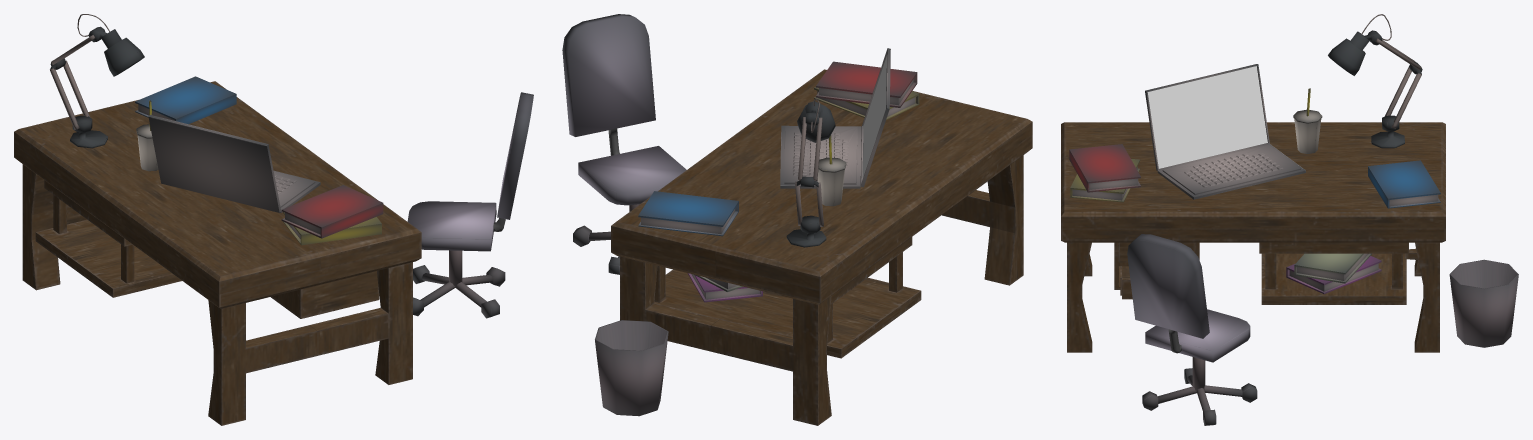
The model's file is desk lmao.fbx.
3 views of the same model, side by side, from view 1: azimuth 30°, elevation 25°; view 2: azimuth 150°, elevation 25°; view 3: azimuth 270°, elevation 25° (orthographic). The views are drawn at different scales.
Visible parts, largest first — view 1: Cube.009; view 2: Cube.009; view 3: Cube.009.
Part boxes in pixels (x1,y1,x2,y2): Cube.009: (14,14,533,425); Cube.009: (562,14,1032,425); Cube.009: (1061,14,1518,425).
Size of the model in its own units: 840 by 593 by 927.
Materials: 1 (1 with a texture image).
